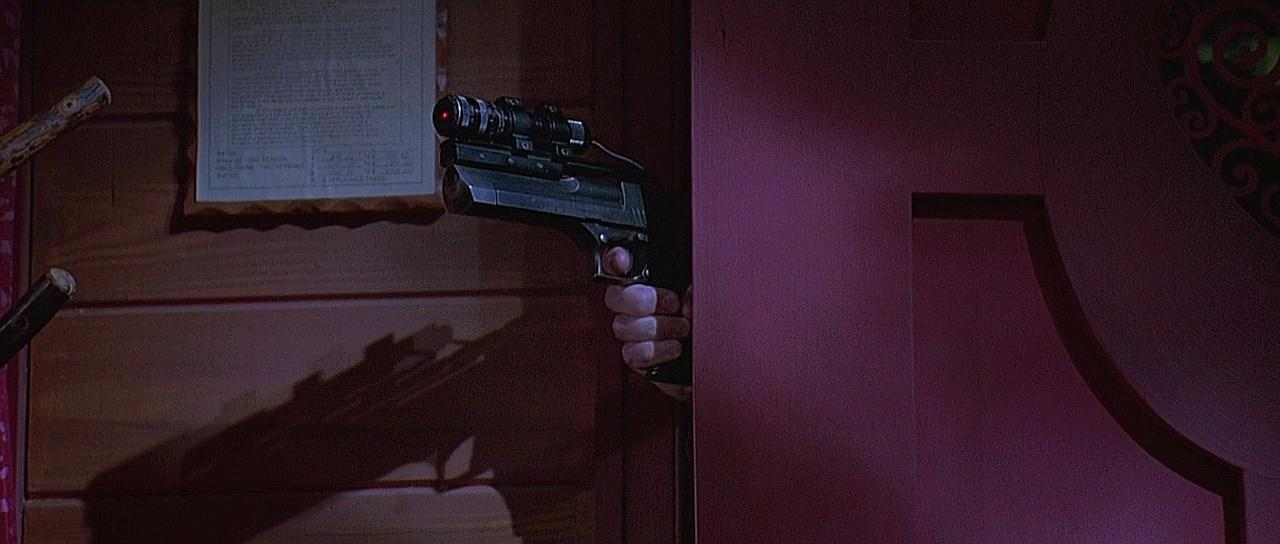gun: (436, 87, 709, 369)
